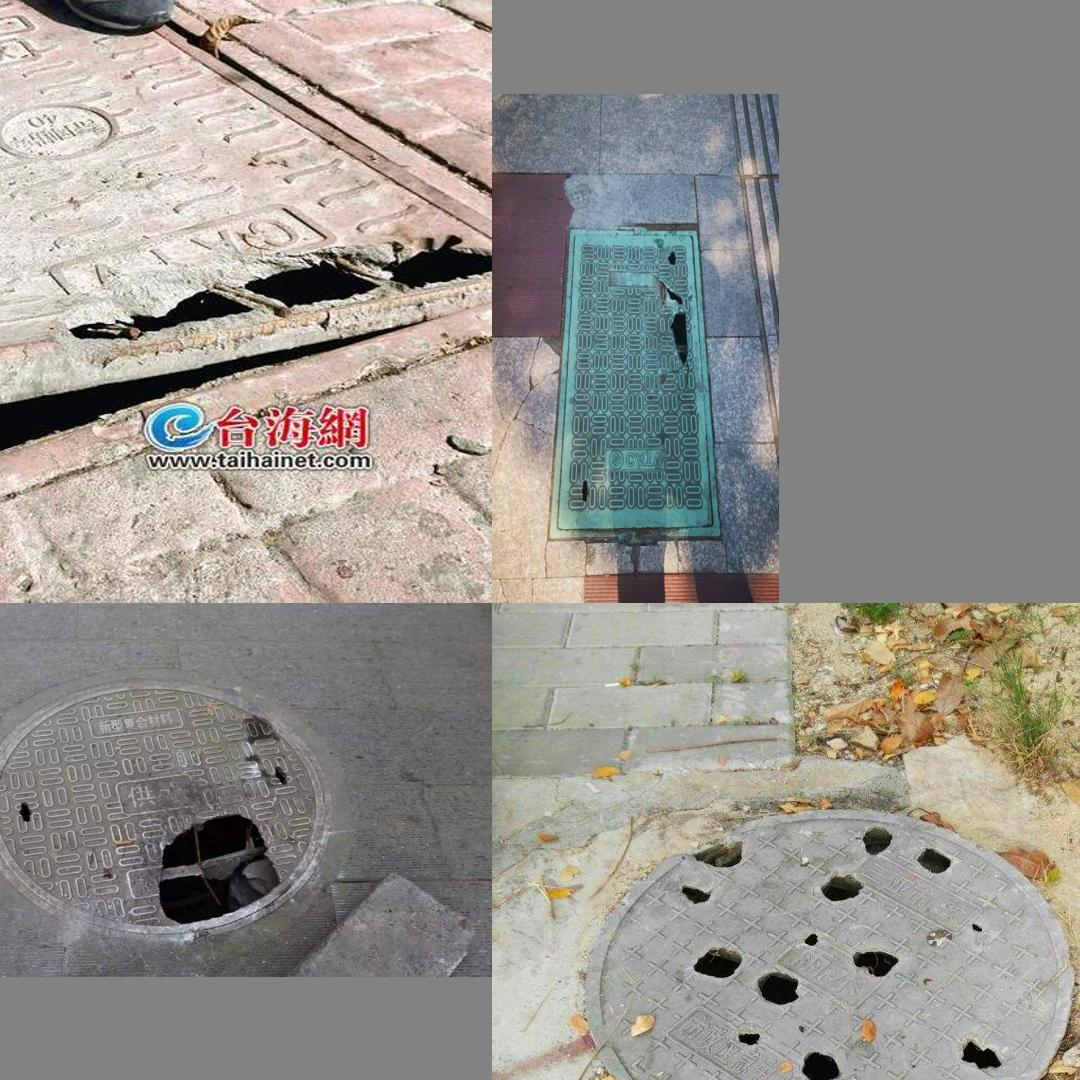broke: (0, 0, 492, 483), (579, 805, 1074, 1080), (0, 685, 324, 933), (550, 226, 721, 539)
